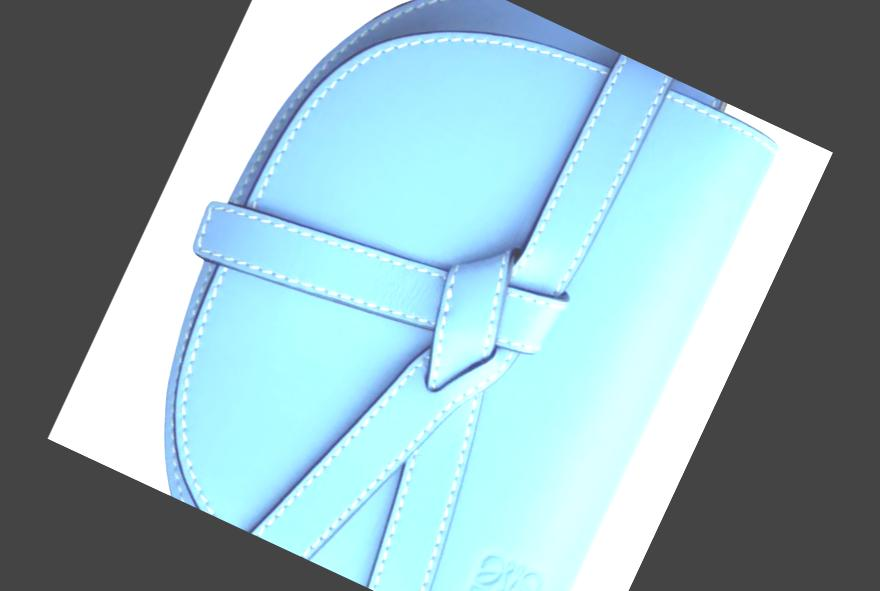LOEWE: (442, 537, 560, 591)
